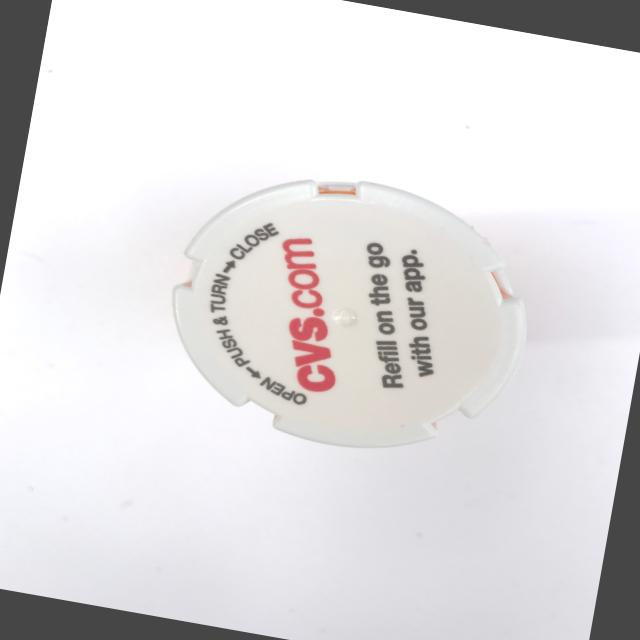Plastic: (131, 138, 575, 494)
